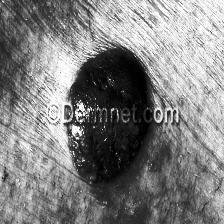Benign Marking or Mole: (61, 57, 155, 179)
